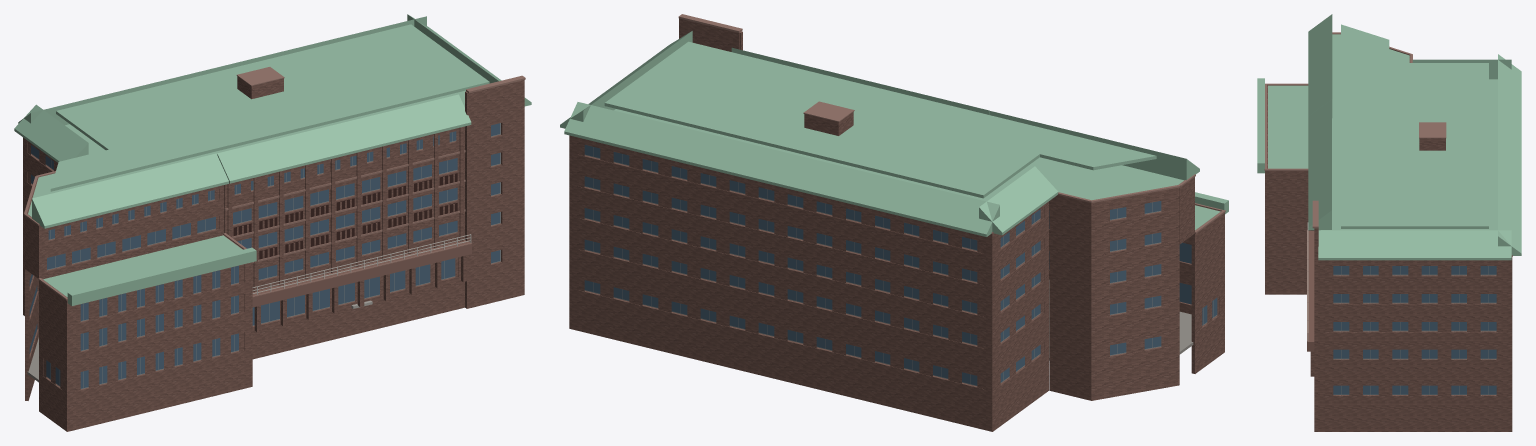
3 renders of one model, left to right at view 1: azimuth 30°, elevation 25°; view 2: azimuth 150°, elevation 25°; view 3: azimuth 270°, elevation 25°, orthographic. The views are drawn at different scales.
Parts seen in each view (by area): view 1: s08__brick-wall, s08__green-roof, s08__glass, s08__roof, s08__balcony-brick, s08__brick-coping, s08__frame, s08__door-glass, s08__lattice-dark, s08__granite-rail; view 2: s08__brick-wall, s08__green-roof, s08__glass, s08__roof, s08__frame, s08__brick-coping; view 3: s08__green-roof, s08__brick-wall, s08__roof, s08__glass, s08__brick-coping, s08__frame, s08__balcony-brick.
Boxes of the visible parts, bbox=[...] form: s08__brick-wall: bbox=[23, 76, 524, 431]; s08__green-roof: bbox=[14, 14, 531, 305]; s08__glass: bbox=[29, 123, 500, 388]; s08__roof: bbox=[28, 90, 465, 297]; s08__balcony-brick: bbox=[252, 240, 471, 307]; s08__brick-coping: bbox=[24, 67, 525, 300]; s08__frame: bbox=[31, 123, 500, 389]; s08__door-glass: bbox=[252, 258, 455, 325]; s08__lattice-dark: bbox=[233, 173, 457, 259]; s08__granite-rail: bbox=[252, 234, 471, 294]; s08__brick-wall: bbox=[569, 18, 1224, 431]; s08__green-roof: bbox=[560, 31, 1228, 236]; s08__glass: bbox=[584, 145, 1217, 385]; s08__roof: bbox=[614, 109, 1220, 230]; s08__frame: bbox=[584, 147, 1216, 386]; s08__brick-coping: bbox=[678, 14, 1225, 233]; s08__green-roof: bbox=[1257, 14, 1521, 260]; s08__brick-wall: bbox=[1265, 56, 1512, 431]; s08__roof: bbox=[1268, 34, 1497, 230]; s08__glass: bbox=[1333, 266, 1496, 394]; s08__brick-coping: bbox=[1264, 32, 1512, 341]; s08__frame: bbox=[1333, 266, 1496, 394]; s08__balcony-brick: bbox=[1307, 231, 1314, 351].
Size of the model in its own units: 60.99 by 26.22 by 30.05.
12 materials, 1 textured.
